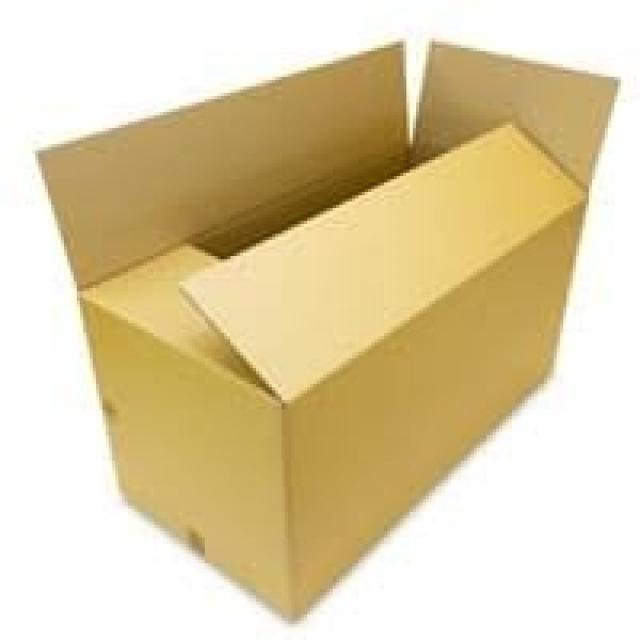cardboard paper: (37, 42, 615, 615), (182, 124, 582, 400), (38, 42, 406, 285)
